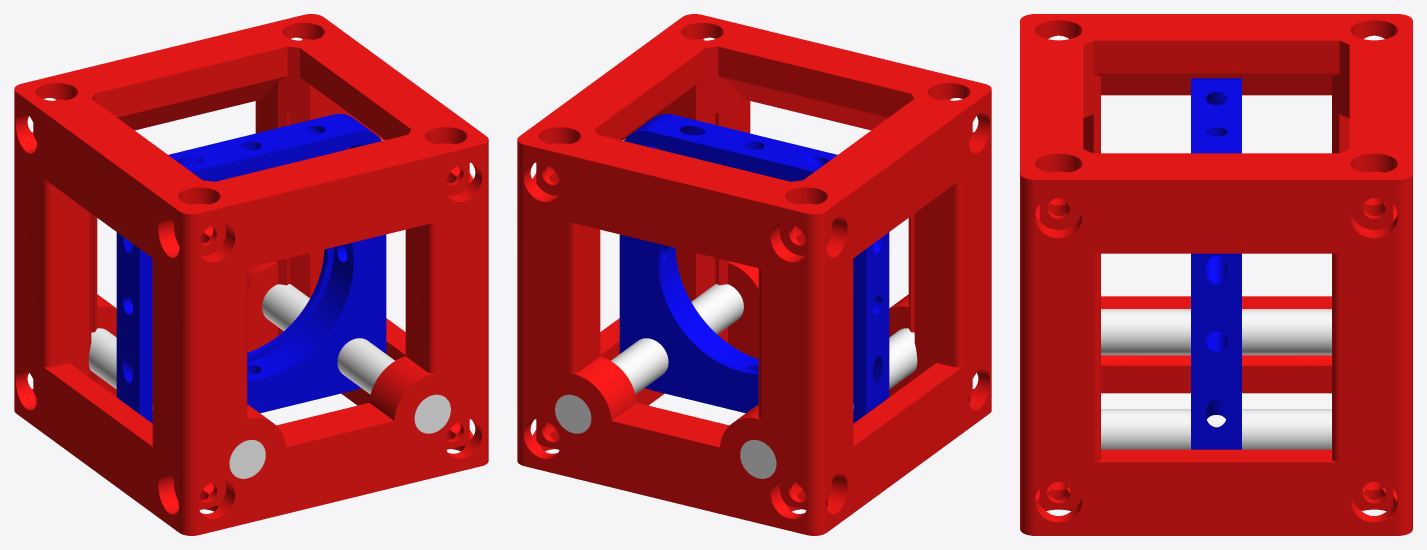
Rendered from Base Cube 1x1 (Lense).fbx.
The picture shows the model from 3 angles, left to right: view 1: azimuth 30°, elevation 25°; view 2: azimuth 150°, elevation 25°; view 3: azimuth 270°, elevation 25°; orthographic projection. The views are drawn at different scales.
Visible parts, largest first — view 1: Base Cube 1x1 (Lense); view 2: Base Cube 1x1 (Lense); view 3: Base Cube 1x1 (Lense).
Boxes of the visible parts, x1,y1,x2,y2 form: Base Cube 1x1 (Lense): (14, 14, 488, 535); Base Cube 1x1 (Lense): (517, 14, 991, 535); Base Cube 1x1 (Lense): (1020, 14, 1412, 535).
Size of the model in its own units: 4.98 by 4.98 by 4.98.
